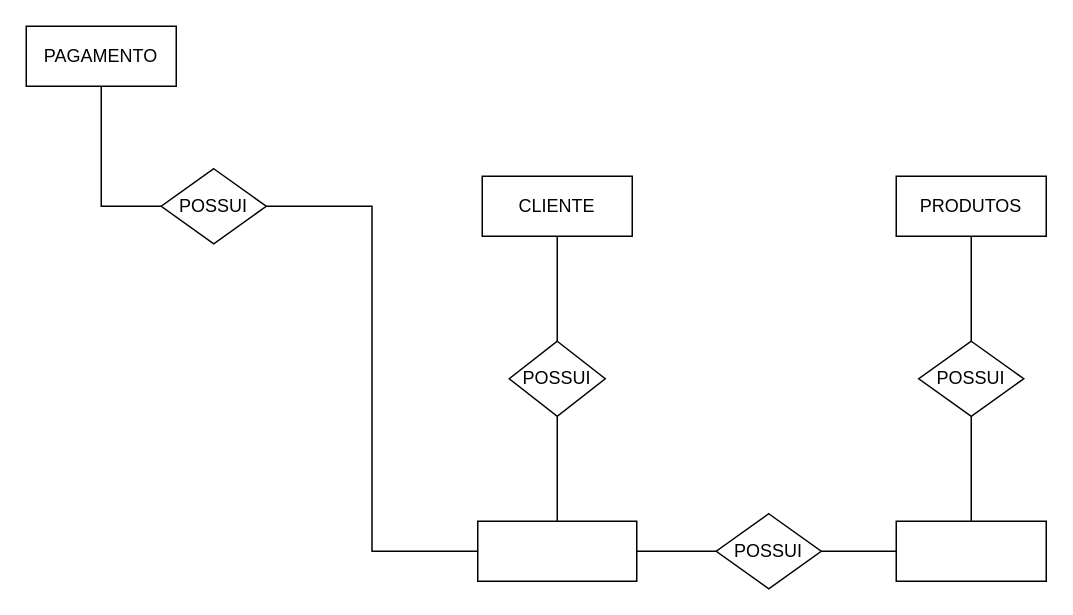
This 1073x615 diagram has some shape labels left out. The shapes that lost their labels are listed below. From the top down, each one's centre as x and y in pixels, then its label:
At point 556,550: "PEDIDO".
At point 970,550: "ITEM DO PEDIDO".
